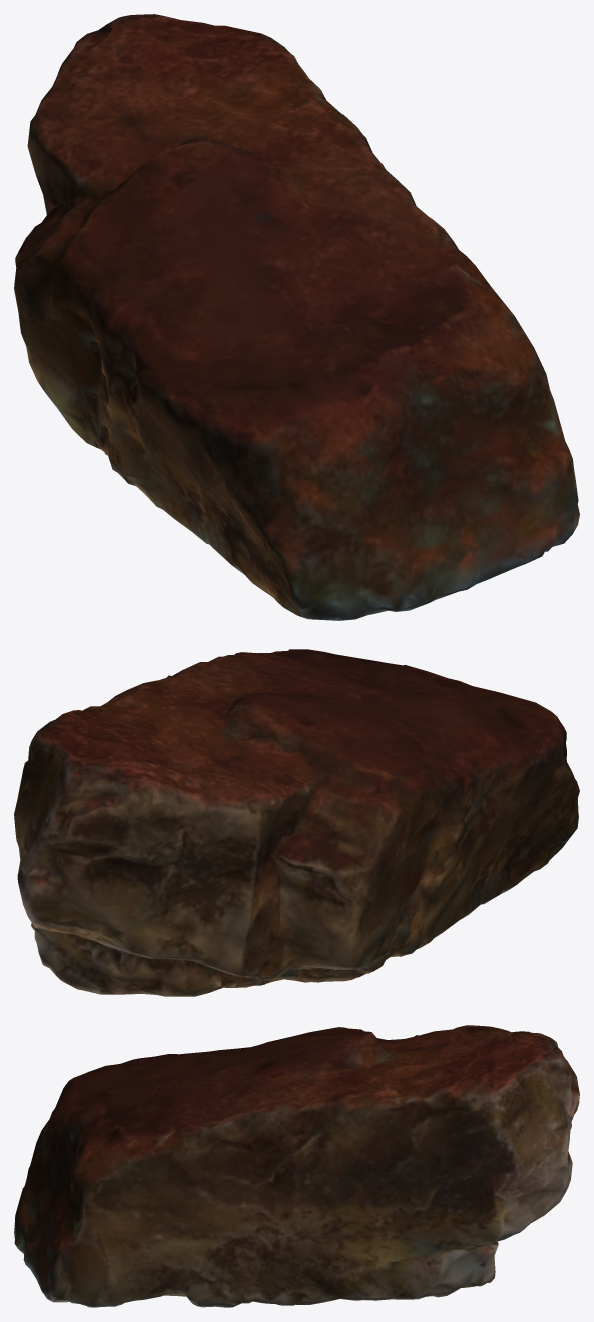
The model's file is rock_07.glb.
3 renders of one model, top to bottom at view 1: azimuth 30°, elevation 25°; view 2: azimuth 150°, elevation 25°; view 3: azimuth 270°, elevation 25°, orthographic. The views are drawn at different scales.
Parts seen in each view (by area): view 1: rock_07; view 2: rock_07; view 3: rock_07.
Part boxes in pixels (x1,y1,x2,y2): rock_07: [14, 14, 579, 620]; rock_07: [14, 649, 579, 996]; rock_07: [14, 1025, 579, 1307].
Bounding box in the file's own units: 0.1686 × 0.1437 × 0.3202.
Materials: 1 (1 with a texture image).
